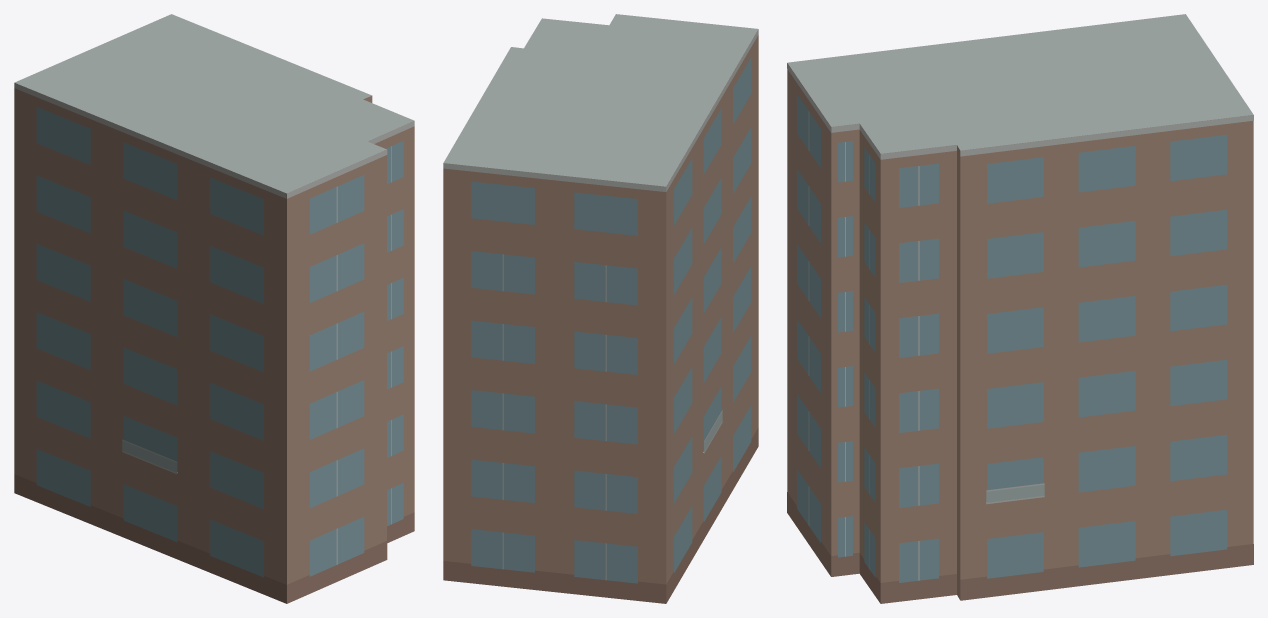
Rendered from survey-upis-32569546.glb.
3 views of the same model, side by side, from view 1: azimuth 30°, elevation 25°; view 2: azimuth 150°, elevation 25°; view 3: azimuth 270°, elevation 25° (orthographic). The views are drawn at different scales.
Parts seen in each view (by area): view 1: survey-upis-32569546.tmp; view 2: survey-upis-32569546.tmp; view 3: survey-upis-32569546.tmp.
Boxes of the visible parts, bbox=[...] form: survey-upis-32569546.tmp: bbox=[14, 14, 414, 603]; survey-upis-32569546.tmp: bbox=[443, 14, 758, 603]; survey-upis-32569546.tmp: bbox=[787, 14, 1253, 603].
Size of the model in its own units: 12.37 by 18.55 by 17.44.
